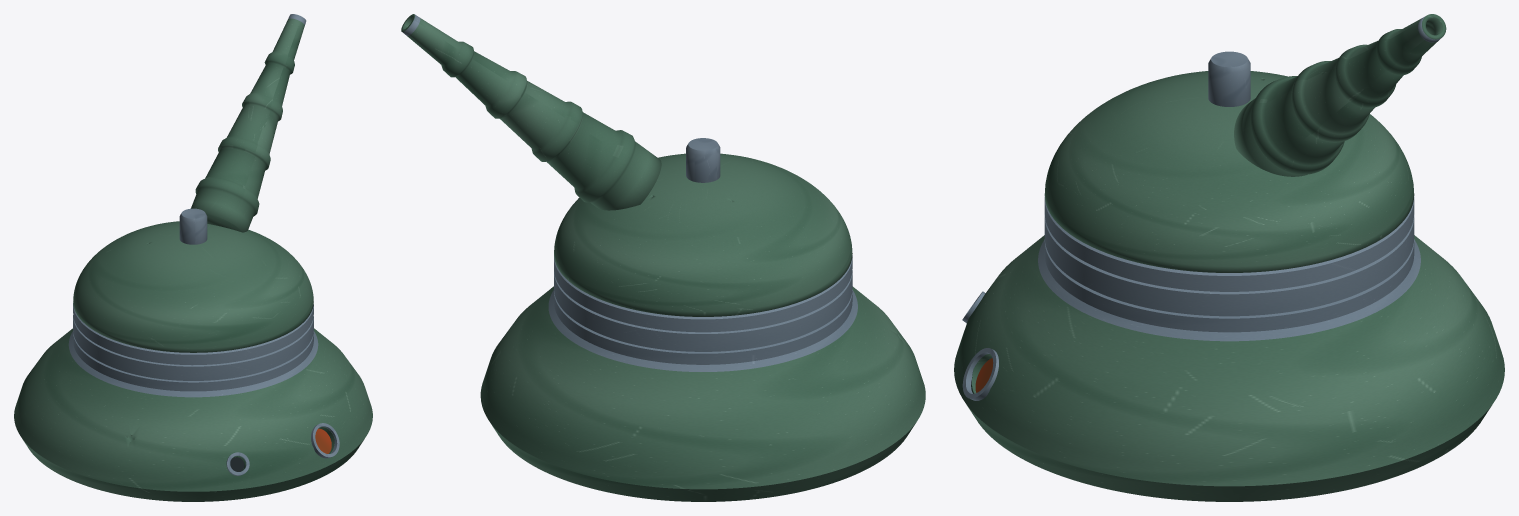
3 views of the same model, side by side, from view 1: azimuth 30°, elevation 25°; view 2: azimuth 150°, elevation 25°; view 3: azimuth 270°, elevation 25° (orthographic). The views are drawn at different scales.
Visible parts, largest first — view 1: Super-deterrent fixed flared green foot and silver bearing b, Super-deterrent low rounded rotating dome, Super-deterrent single tapered emitter with blind bore, Super-deterrent short silver centre stub, Super-deterrent fixed point rim 1; view 2: Super-deterrent fixed flared green foot and silver bearing b, Super-deterrent low rounded rotating dome, Super-deterrent single tapered emitter with blind bore, Super-deterrent short silver centre stub; view 3: Super-deterrent fixed flared green foot and silver bearing b, Super-deterrent low rounded rotating dome, Super-deterrent single tapered emitter with blind bore, Super-deterrent short silver centre stub, Super-deterrent fixed point rim 1.
Boxes of the visible parts, box(x1,y1,x2,y2) form: Super-deterrent fixed flared green foot and silver bearing b: box(14, 303, 372, 501); Super-deterrent low rounded rotating dome: box(73, 221, 313, 352); Super-deterrent single tapered emitter with blind bore: box(191, 14, 306, 232); Super-deterrent short silver centre stub: box(179, 208, 207, 244); Super-deterrent fixed point rim 1: box(311, 423, 339, 458); Super-deterrent fixed flared green foot and silver bearing b: box(480, 255, 925, 501); Super-deterrent low rounded rotating dome: box(554, 153, 852, 316); Super-deterrent single tapered emitter with blind bore: box(401, 14, 661, 210); Super-deterrent short silver centre stub: box(686, 138, 720, 182); Super-deterrent fixed flared green foot and silver bearing b: box(954, 196, 1504, 501); Super-deterrent low rounded rotating dome: box(1044, 71, 1414, 272); Super-deterrent single tapered emitter with blind bore: box(1234, 14, 1446, 176); Super-deterrent short silver centre stub: box(1208, 51, 1250, 106); Super-deterrent fixed point rim 1: box(962, 348, 998, 400).
Bounding box in the file's own units: 1.75 × 1.68 × 1.64.
Materials: 4 (3 with a texture image).
